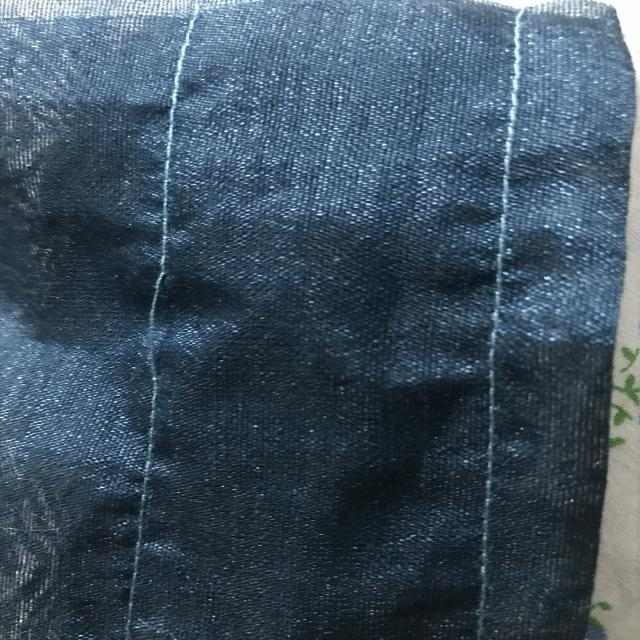good: (148, 104, 190, 218)
skip: (133, 258, 190, 394)
